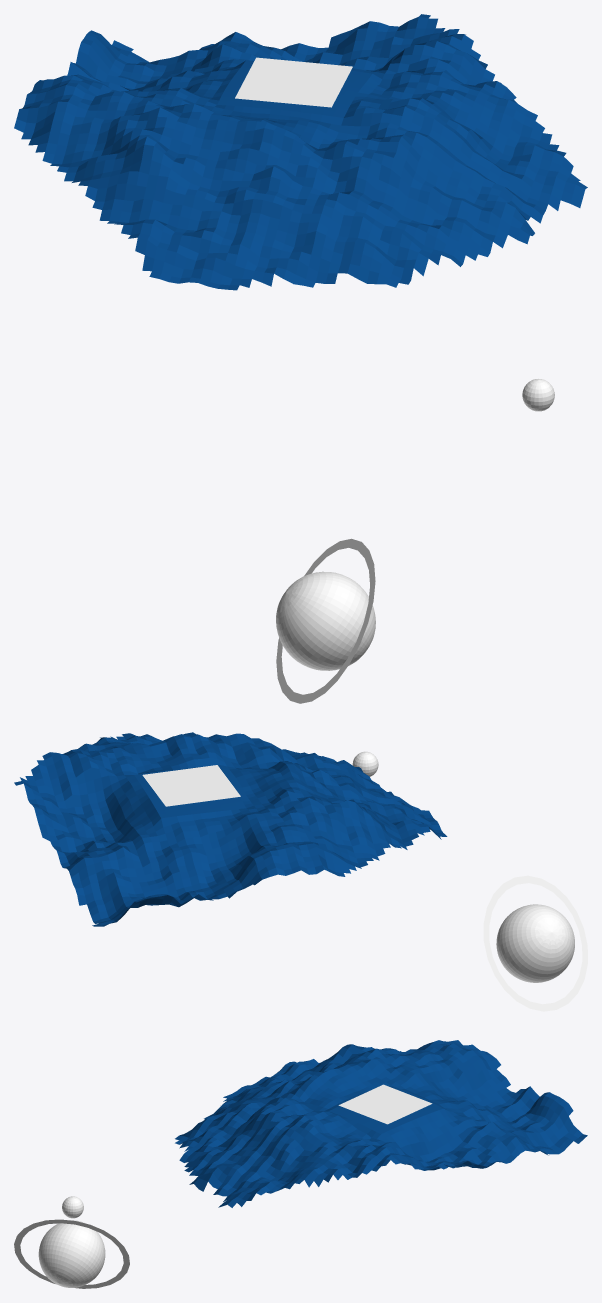
File: comet-3.glb
The picture shows the model from 3 angles, top to bottom: view 1: azimuth 30°, elevation 25°; view 2: azimuth 150°, elevation 25°; view 3: azimuth 270°, elevation 25°; orthographic projection. The views are drawn at different scales.
Parts seen in each view (by area): view 1: comet, planet, board, ring; view 2: comet, planet, board, ring, star; view 3: comet, planet, board, ring, star.
Boxes of the visible parts, x1,y1,x2,y2 form: comet: (14, 14, 587, 290); planet: (276, 571, 375, 670); board: (235, 57, 352, 107); ring: (276, 538, 375, 703); comet: (14, 732, 447, 926); planet: (496, 904, 574, 982); board: (142, 765, 240, 806); ring: (483, 875, 587, 1011); star: (352, 751, 378, 776); comet: (175, 1040, 587, 1207); planet: (38, 1220, 105, 1287); board: (338, 1084, 432, 1124); ring: (14, 1219, 129, 1288); star: (62, 1196, 83, 1218).
Bounding box in the file's own units: 0.7587 × 0.6888 × 1.32.
Materials: 3 (1 with a texture image).
